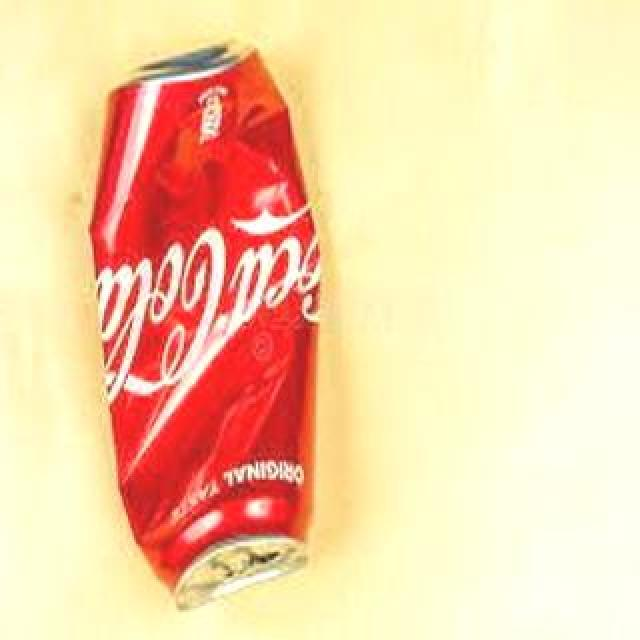Can: (91, 45, 319, 613)
